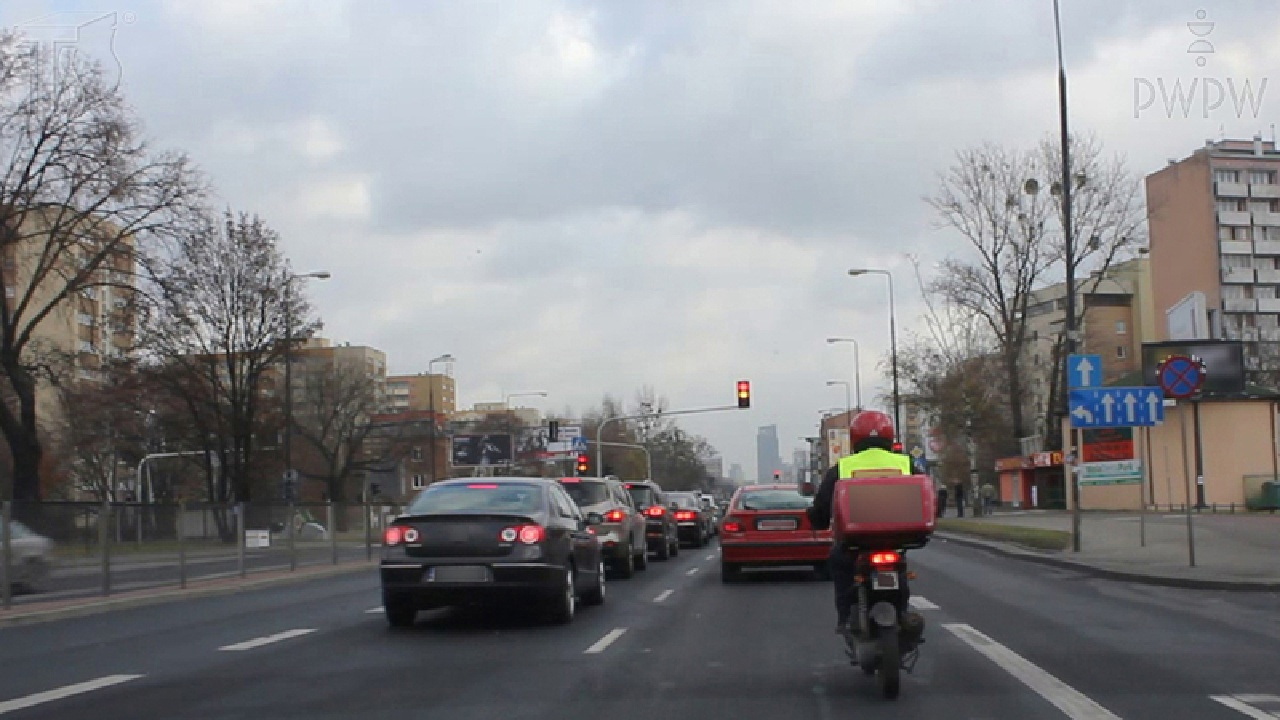B36: (1159, 356, 1202, 398)
D3: (1066, 354, 1102, 387)
